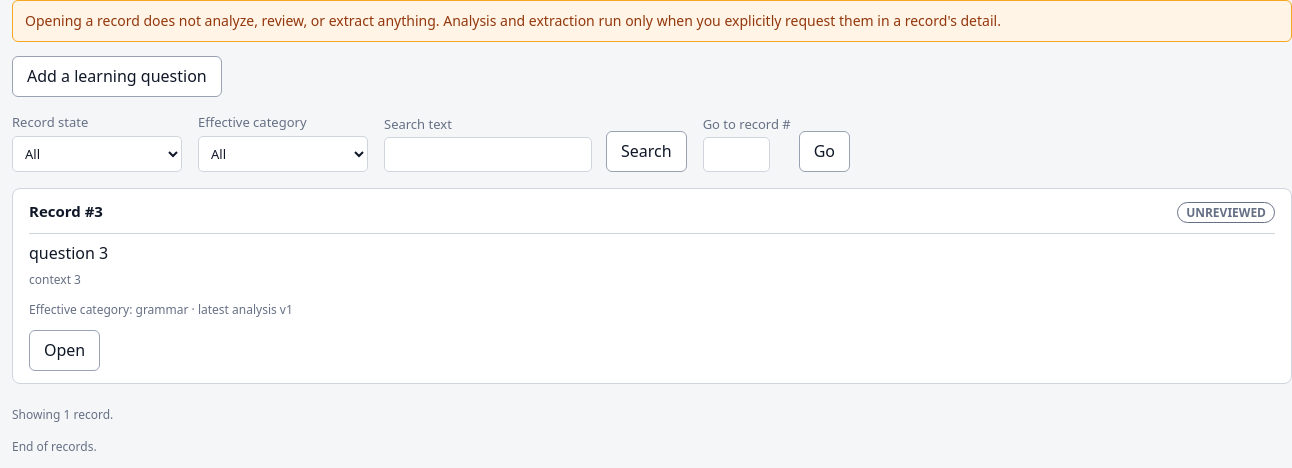
RecordsBrowser list, pagination, and filter › filters by state through the backend and distinguishes a filtered empty result
Expected: the text "question 3" is shown, [29,242,108,264]
Select "rejected" in the dropdown labelled "Record state" at (97, 154), box [12,136,182,172]
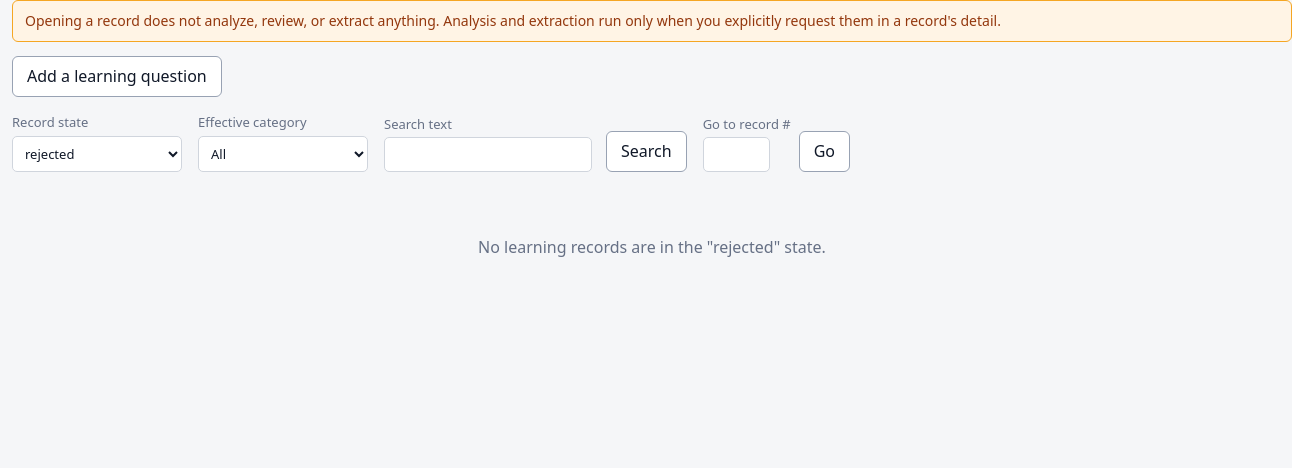
Expected: the text "No learning records are in the \"rejected\" state." is shown, [478,236,826,258]
Expected: the text "question 3" is gone
